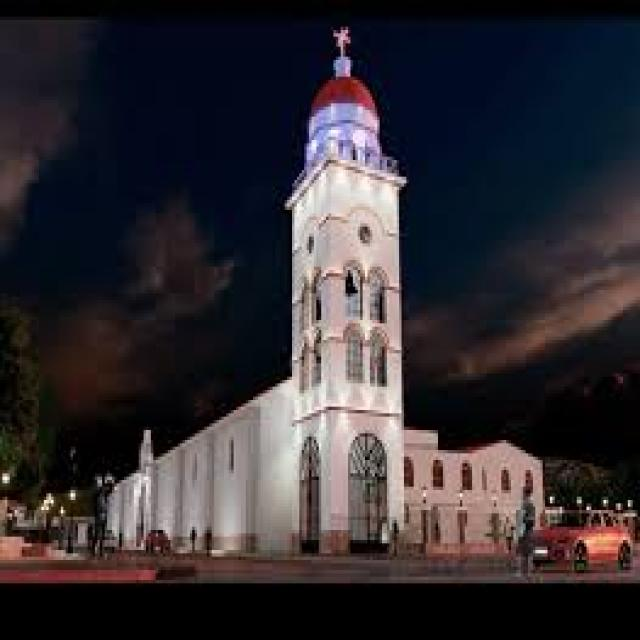CAMPANARIO: (293, 149, 408, 407)
CUPULA: (301, 46, 389, 141)
TORRES: (281, 19, 419, 576)
colonial-architecture-: (0, 4, 554, 570)
